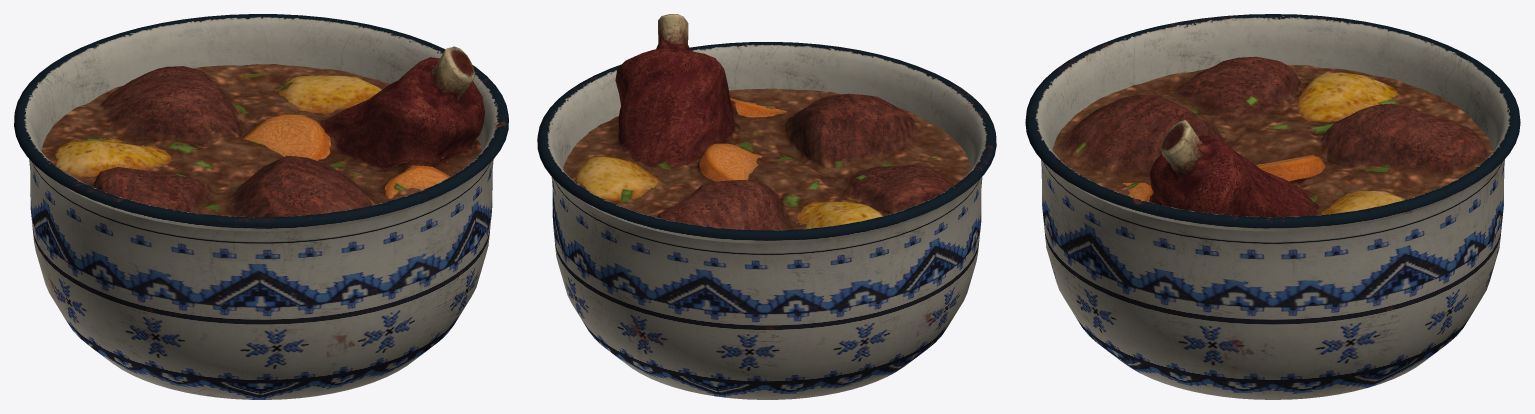
Rendered from Bowl.fbx.
3 renders of one model, left to right at view 1: azimuth 30°, elevation 25°; view 2: azimuth 150°, elevation 25°; view 3: azimuth 270°, elevation 25°, orthographic. The views are drawn at different scales.
Visible parts, largest first — view 1: PorkStew; view 2: PorkStew; view 3: PorkStew.
Part boxes in pixels (<box>): PorkStew: <box>14,14,508,399</box>; PorkStew: <box>537,14,996,399</box>; PorkStew: <box>1025,14,1520,399</box>.
Size of the model in its own units: 139 by 91.26 by 139.
